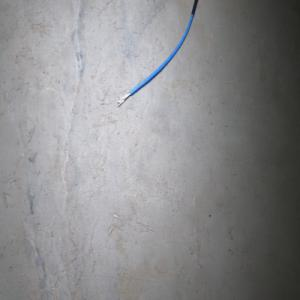Wire: (115, 0, 197, 107)
